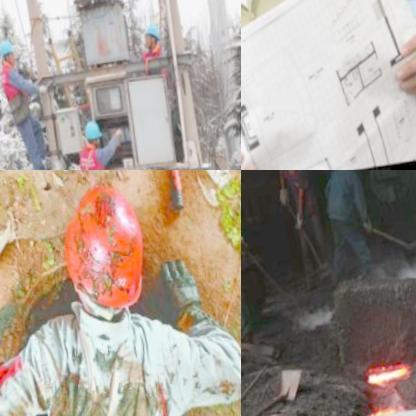helmet: (53, 177, 163, 328), (80, 116, 102, 151), (141, 23, 161, 50), (0, 36, 16, 69)
